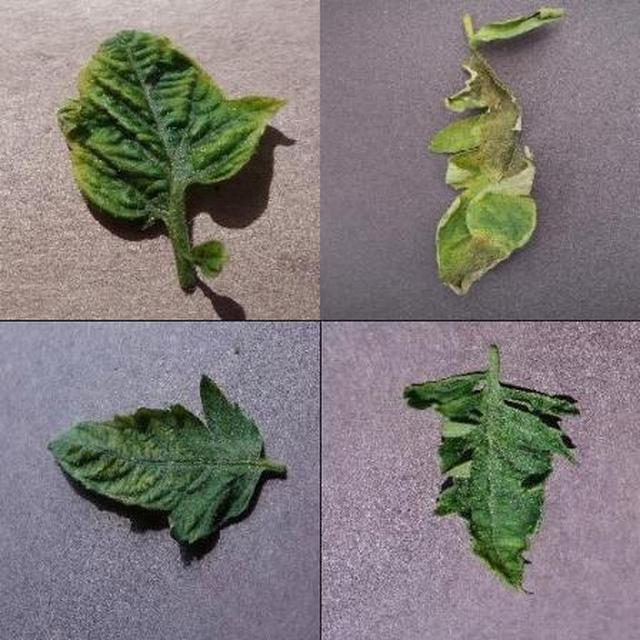Yellow Leaf Curl Virus: (122, 35, 640, 640)
